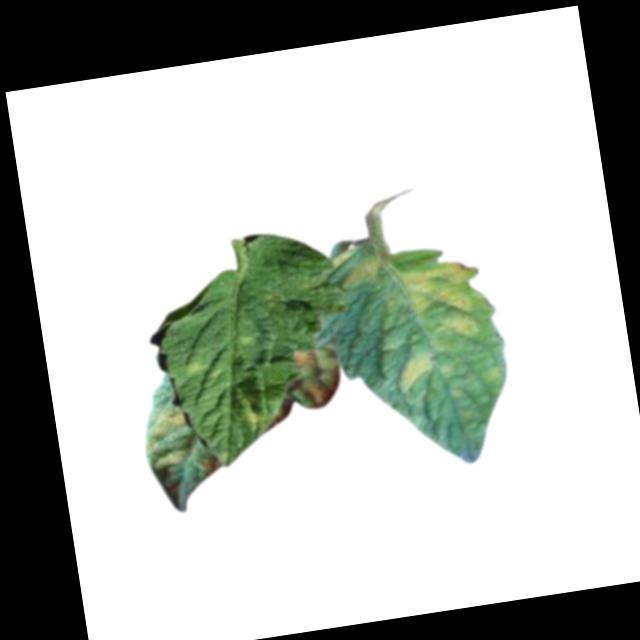Leaf_Mold: (389, 252, 489, 349), (282, 343, 345, 412), (138, 403, 199, 472), (330, 254, 385, 297), (390, 348, 438, 397), (229, 384, 273, 434)
